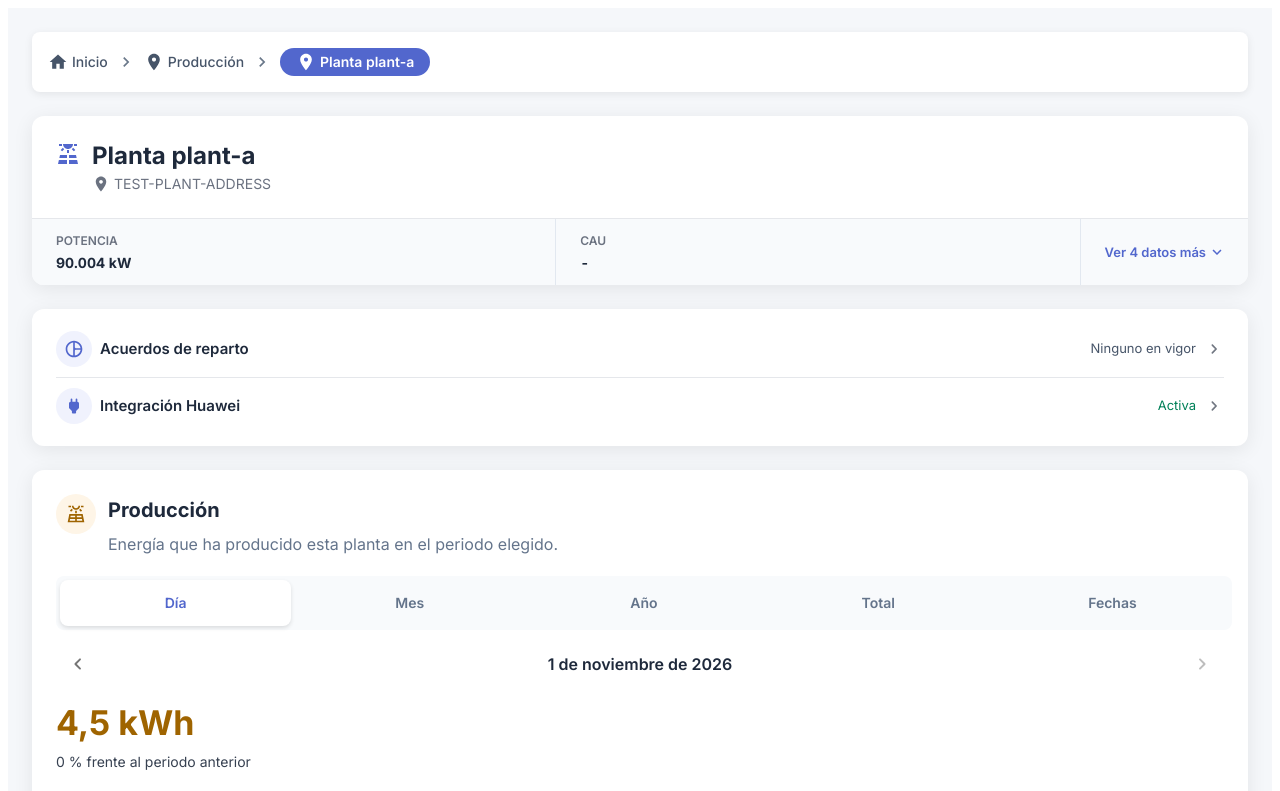
Test case: PlantDetailPage rules (#260) › the chart subtitle › UI-PLT-007 the Total period is subtitled in Spanish as Producción por año
The image size is (1280, 791).
Click the button "Total": [878, 603] box [763, 580, 994, 626]
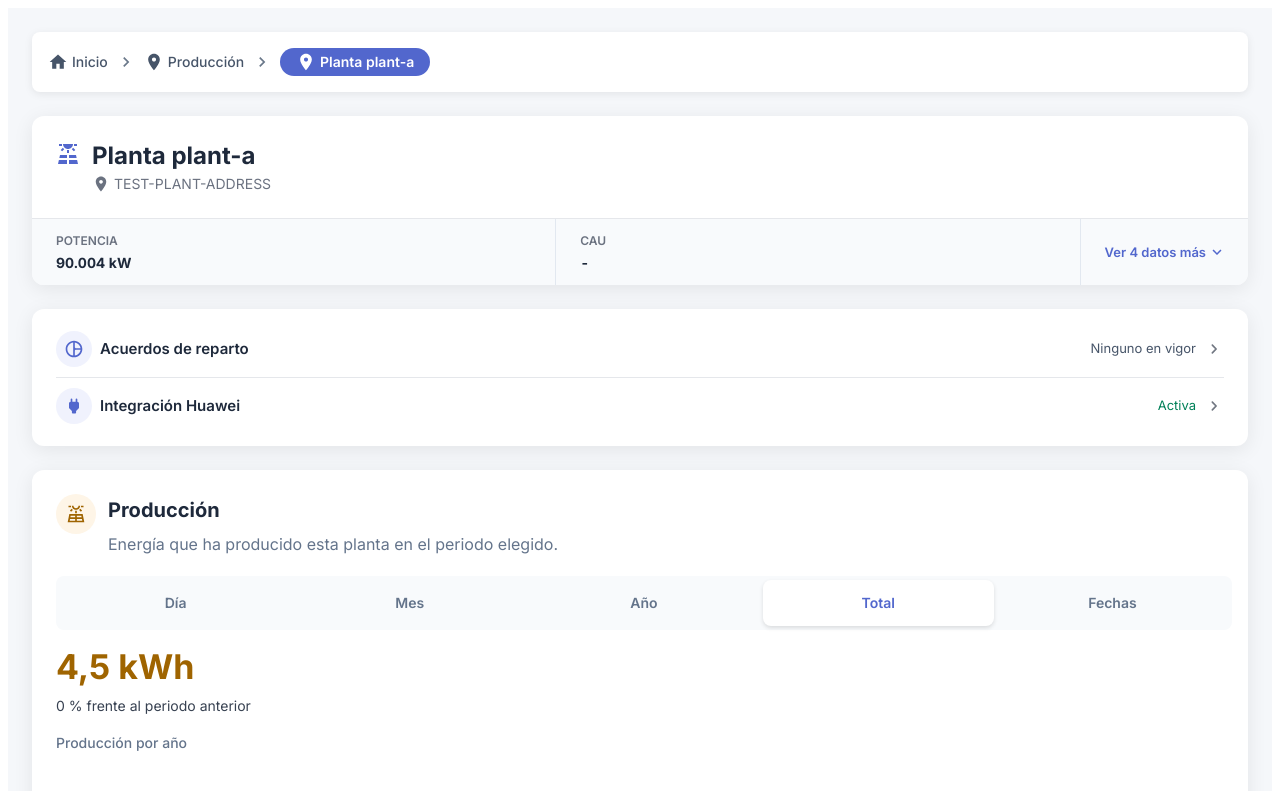
Now the heading "Producción por año" is shown, box [56, 734, 187, 752]
